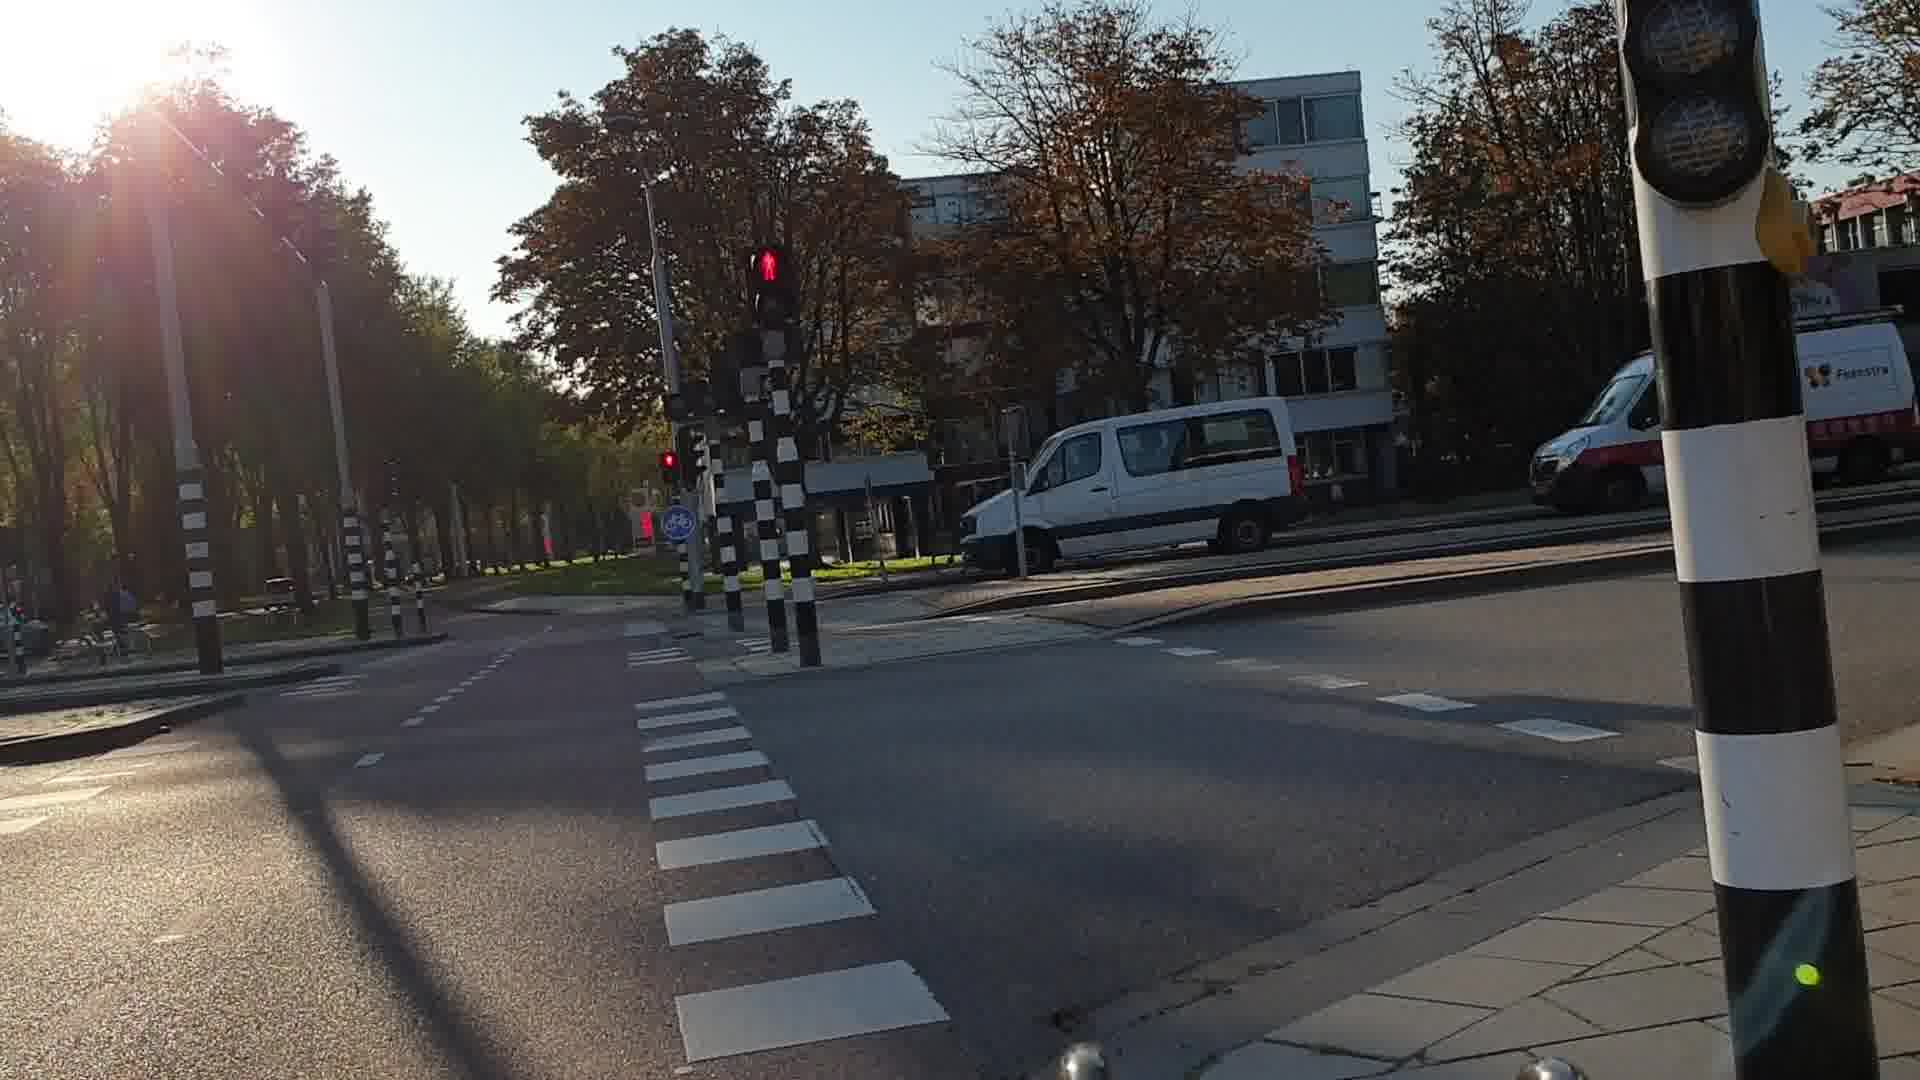car: (950, 405, 1308, 561)
